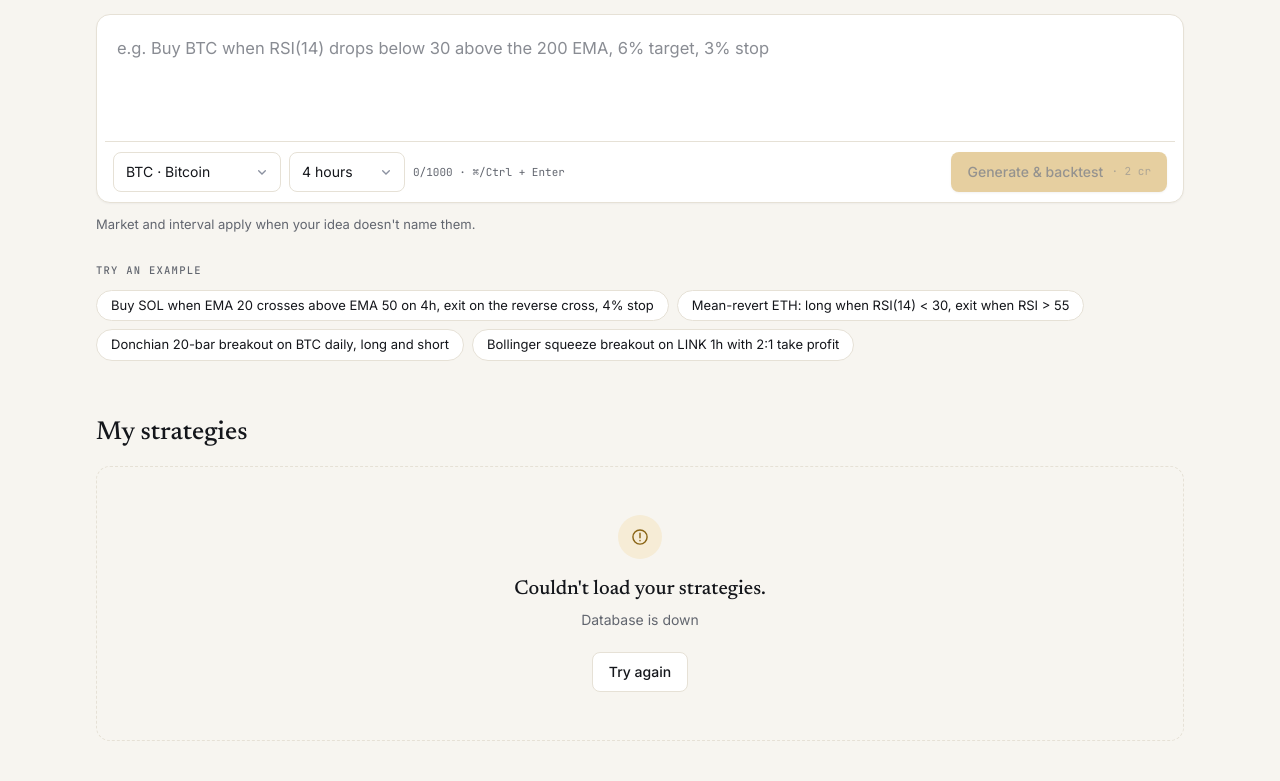
Test: StrategiesPage · studio › retries my strategies after a failure
(page scrolled)
Expected: the heading "Couldn't load your strategies." is shown, [514, 575, 766, 603]
Click the button "Try again" at (640, 672), box [592, 652, 688, 692]
(page scrolled)
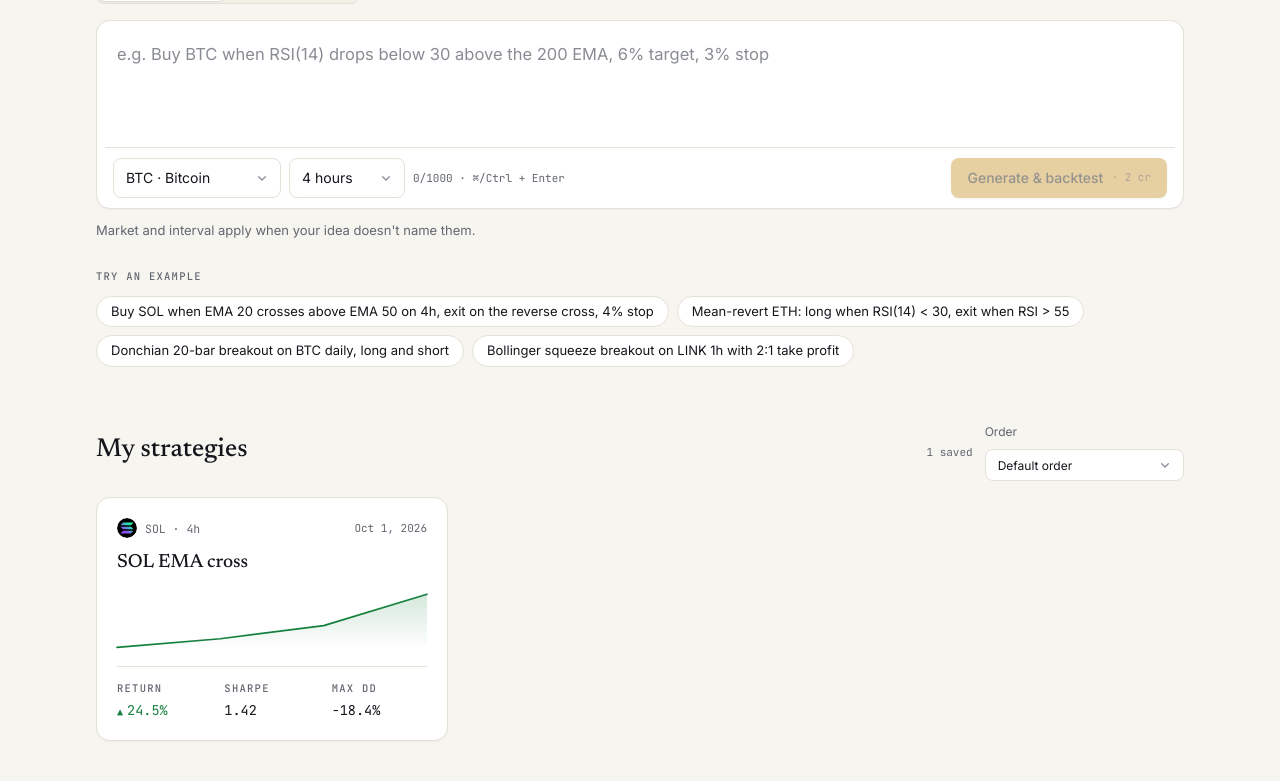
Result: the link "SOL EMA cross" is shown at [96, 497, 448, 741]
